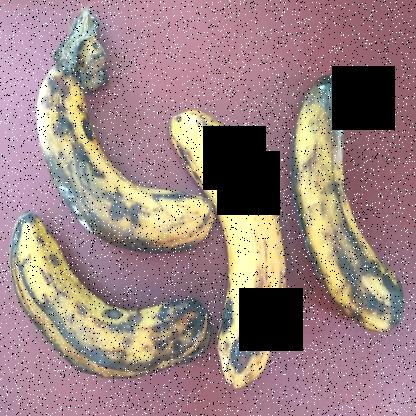overripe: (171, 104, 297, 398)
rotten: (281, 67, 416, 352), (1, 216, 206, 400), (22, 68, 212, 258)
